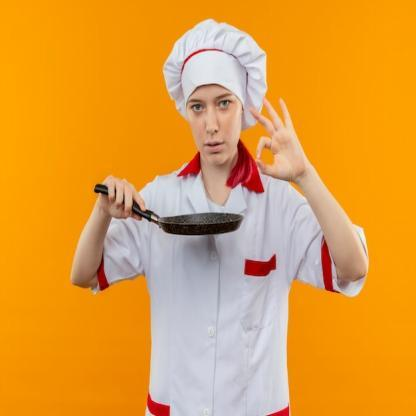ok: (248, 95, 308, 184)
